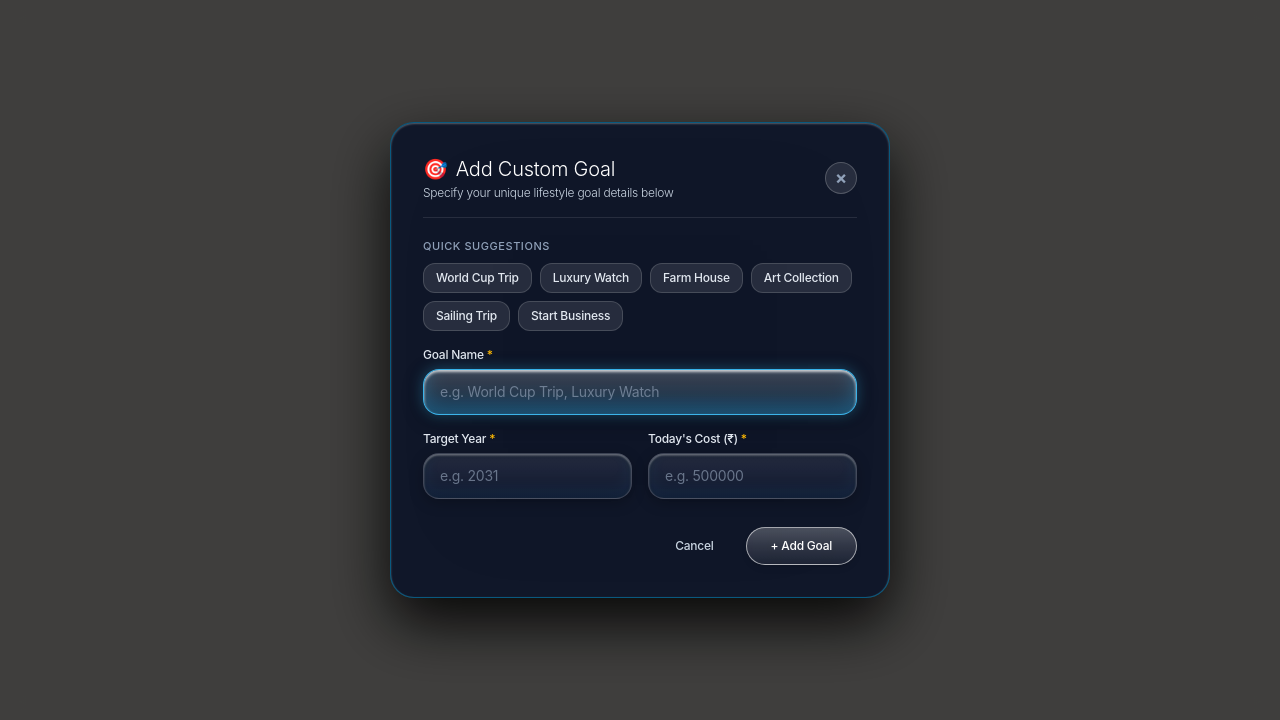
Test: CustomGoalModal - new-wealth-fe › pre-fills goal name when quick preset chip is clicked
The image size is (1280, 720).
Click the button "World Cup Trip" at (477, 278), box x1=423 y1=263 x2=532 y2=293
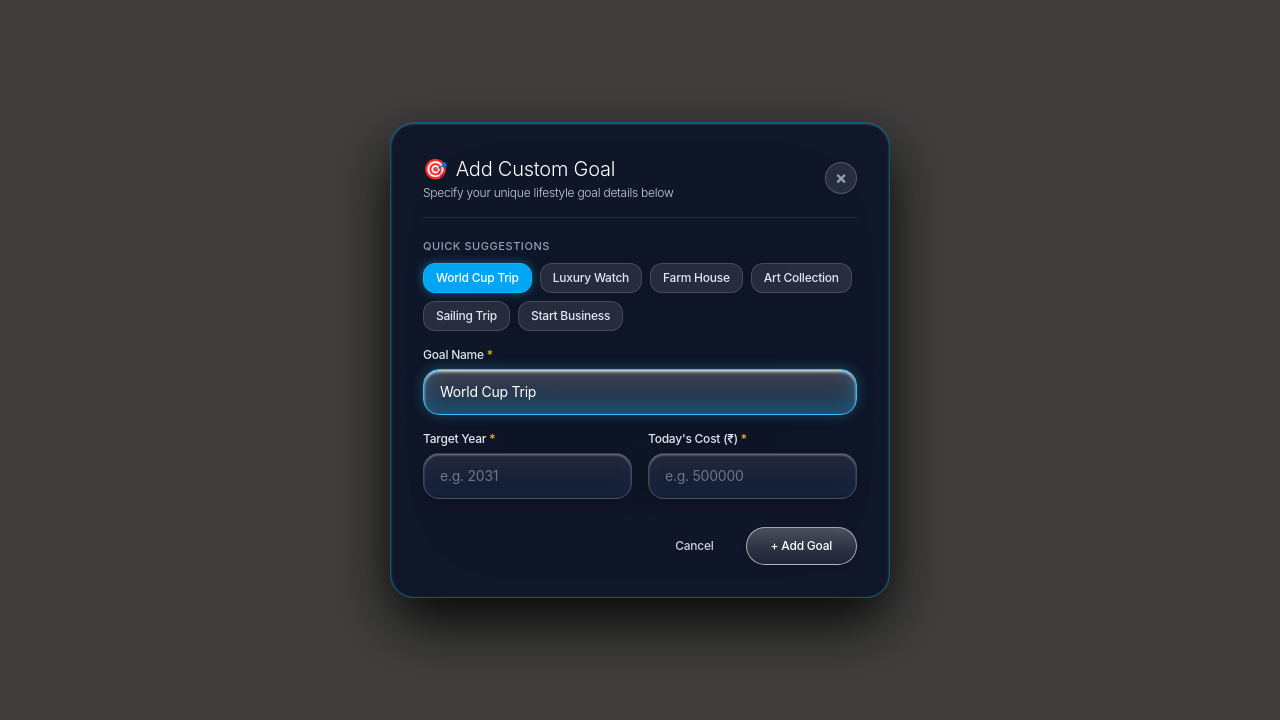
Expected: the field with placeholder "e.g. World Cup Trip, Luxury Watch" holds "World Cup Trip", x1=423 y1=369 x2=857 y2=415
